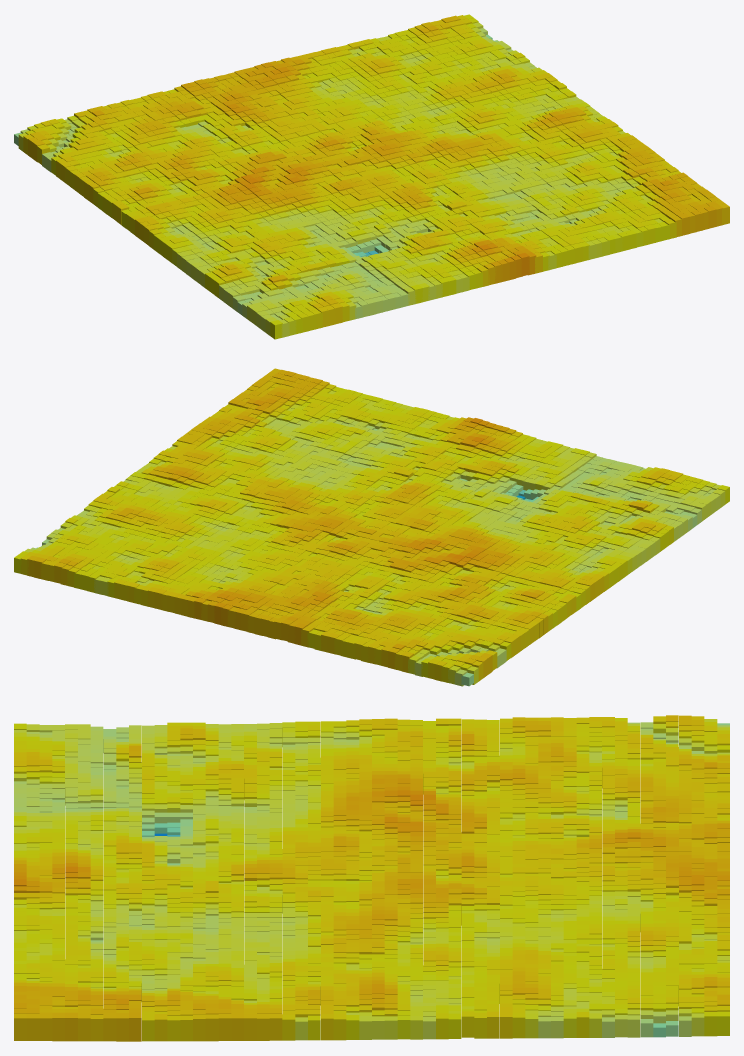
Rendered from population.glb.
3 views of the same model, one above another, from view 1: azimuth 30°, elevation 25°; view 2: azimuth 150°, elevation 25°; view 3: azimuth 270°, elevation 25° (orthographic). The views are drawn at different scales.
Visible parts, largest first — view 1: population; view 2: population; view 3: population.
Part boxes in pixels (box(x1,y1,x2,y2)): population: box(14, 14, 729, 339); population: box(14, 368, 729, 686); population: box(14, 715, 729, 1041).
Bounding box in the file's own units: 5666 × 304 × 5621.
